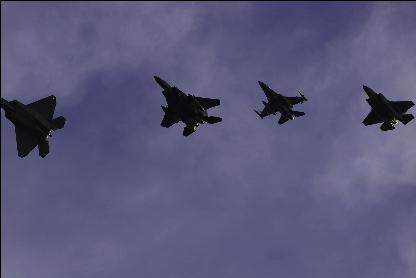F117: (153, 74, 221, 136)
F14: (254, 78, 308, 124)
F18: (1, 93, 65, 157)
F22: (362, 84, 414, 130)
